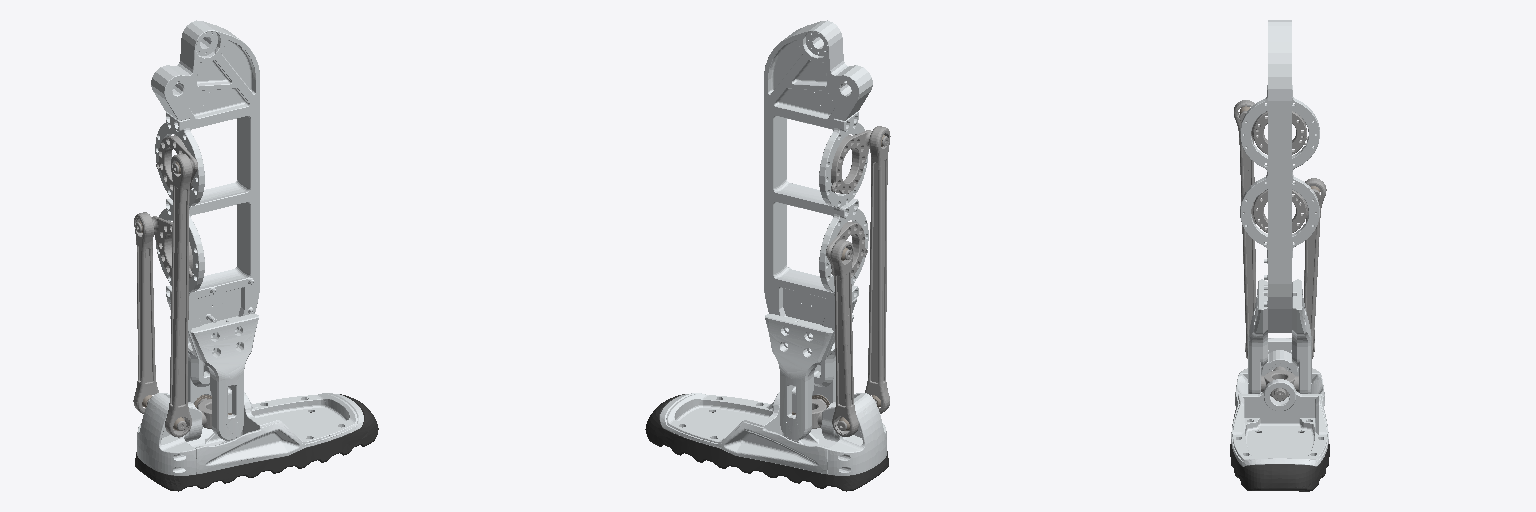
robot.urdf — robot:
<?xml version="1.0" encoding="utf-8"?>
<!--Mentee Robotics LTD-->
<robot name="robot">
  <material name="SOLIDWORKS_Materials|6061-T6_(SS)|164">
    <color rgba="0.8980392157 0.9176470588 0.9294117647 1" />
  </material>
  <material name="Custom_Materials|17-4_PH_H900">
    <color rgba="0.6980392157 0.6980392157 0.6980392157 1" />
  </material>
  <material name="SOLIDWORKS_Materials|AISI_304|1">
    <color rgba="0.6470588235 0.6196078431 0.5882352941 1" />
  </material>
  <material name="SOLIDWORKS_Materials|Rubber|79">
    <color rgba="0.2980392157 0.2980392157 0.2980392157 1" />
  </material>
  <link name="base_link">
    <inertial>
      <origin xyz="-0.03668944236 -1.378044267E-05 -0.5665630418" rpy="0 0 0" />
      <mass value="1.880591247" />
      <inertia ixx="0.03915808668" ixy="2.098688803E-07" ixz="0.0008236686558" iyy="0.04041366541" iyz="-2.068388886E-06" izz="0.00231368708" />
    </inertial>
    <visual>
      <origin xyz="0 0 0" rpy="0 0 0" />
      <geometry>
        <mesh filename="../meshes/base_link/component_0_21_21.stl" />
      </geometry>
      <material name="SOLIDWORKS_Materials|6061-T6_(SS)|164" />
    </visual>
    <visual>
      <origin xyz="0 0 0" rpy="0 0 0" />
      <geometry>
        <mesh filename="../meshes/base_link/component_1_21_85.stl" />
      </geometry>
      <material name="SOLIDWORKS_Materials|6061-T6_(SS)|164" />
    </visual>
    <visual>
      <origin xyz="0 0 0" rpy="0 0 0" />
      <geometry>
        <mesh filename="../meshes/base_link/component_2_21_30.stl" />
      </geometry>
      <material name="SOLIDWORKS_Materials|6061-T6_(SS)|164" />
    </visual>
    <visual>
      <origin xyz="0 0 0" rpy="0 0 0" />
      <geometry>
        <mesh filename="../meshes/base_link/component_3_21_31.stl" />
      </geometry>
      <material name="SOLIDWORKS_Materials|6061-T6_(SS)|164" />
    </visual>
  </link>
  <joint name="base_link_to_new_link" type="revolute">
    <origin xyz="-0.08421932783 0 -0.5842061602" rpy="-1.570796327 -0.4088553244 1.570796327" />
    <parent link="base_link" />
    <child link="motor_down" />
    <axis xyz="0 0 1" />
    <limit lower="-3.14" upper="3.14" velocity="1" effort="1" />
  </joint>
  <link name="motor_down">
    <inertial>
      <origin xyz="0.005300563095 4.098854107E-07 0.0003355917088" rpy="0 0 0" />
      <mass value="0.1520232008" />
      <inertia ixx="5.002545652E-05" ixy="-2.222769843E-07" ixz="-3.068970612E-06" iyy="7.9769514E-05" iyz="3.621420167E-11" izz="0.0001268029864" />
    </inertial>
    <visual>
      <origin xyz="0 0 0" rpy="0 0 0" />
      <geometry>
        <mesh filename="../meshes/motor_down/component_0_21_23.stl" />
      </geometry>
      <material name="Custom_Materials|17-4_PH_H900" />
    </visual>
  </link>
  <joint name="motor_down_crank_roll_joint" type="revolute">
    <origin xyz="0.0450000014 0 0.018" rpy="0 0 0.4088553244" />
    <parent link="motor_down" />
    <child link="motor_down_crank_roll" />
    <axis xyz="0 0 1" />
    <limit lower="-3.14" upper="3.14" velocity="1" effort="1" />
  </joint>
  <link name="motor_down_crank_roll">
    <inertial>
      <origin xyz="-1.657142534E-09 -3.005131699E-10 -0.001267503997" rpy="0 0 0" />
      <mass value="0.008673585371" />
      <inertia ixx="4.382666828E-07" ixy="3.97046694E-23" ixz="2.48942567E-21" iyy="4.382666828E-07" iyz="1.849716213E-22" izz="8.154870604E-08" />
    </inertial>
    <visual>
      <origin xyz="0 0 0" rpy="0 0 0" />
      <geometry>
        <mesh filename="../meshes/motor_down_crank_roll/component_0_21_111.stl" />
      </geometry>
      <material name="Custom_Materials|17-4_PH_H900" />
    </visual>
  </link>
  <joint name="motor_down_crank_yaw_joint" type="revolute">
    <origin xyz="0 0 0" rpy="1.570582648 -0.01309308882 1.587115342" />
    <parent link="motor_down_crank_roll" />
    <child link="motor_down_crank_yaw" />
    <axis xyz="0 0 1" />
    <limit lower="-3.14" upper="3.14" velocity="1" effort="1" />
  </joint>
  <link name="motor_down_crank_yaw">
    <inertial>
      <origin xyz="0.1016481768 -0.001374025996 -0.00166224253" rpy="0 0 0" />
      <mass value="0.3312266505" />
      <inertia ixx="1.686073529E-05" ixy="2.019466749E-05" ixz="2.675498706E-05" iyy="0.001624643749" iyz="-3.363803788E-07" izz="0.001624357381" />
    </inertial>
    <visual>
      <origin xyz="0 0 0" rpy="0 0 0" />
      <geometry>
        <mesh filename="../meshes/motor_down_crank_yaw/component_0_21_26_22.stl" />
      </geometry>
      <material name="SOLIDWORKS_Materials|AISI_304|1" />
    </visual>
    <visual>
      <origin xyz="0 0 0" rpy="0 0 0" />
      <geometry>
        <mesh filename="../meshes/motor_down_crank_yaw/component_1_21_25.stl" />
      </geometry>
      <material name="Custom_Materials|17-4_PH_H900" />
    </visual>
  </link>
  <joint name="crank_foot_down_roll_joint" type="revolute">
    <origin xyz="0.2099545995 -0.002781906005 -0.003365584216" rpy="-0.01631621716 -0.0002136608557 1.557703238" />
    <parent link="motor_down_crank_yaw" />
    <child link="crank_foot_down_roll" />
    <axis xyz="0 0 1" />
    <limit lower="-3.14" upper="3.14" velocity="1" effort="1" />
  </joint>
  <link name="crank_foot_down_roll">
    <inertial>
      <origin xyz="-8.949369024E-13 -3.419375894E-12 -0.001267503997" rpy="0 0 0" />
      <mass value="0.008673585371" />
      <inertia ixx="4.382666828E-07" ixy="7.940933881E-23" ixz="-1.229483188E-22" iyy="4.382666828E-07" iyz="5.74961539E-23" izz="8.154870604E-08" />
    </inertial>
    <visual>
      <origin xyz="0 0 0" rpy="0 0 0" />
      <geometry>
        <mesh filename="../meshes/crank_foot_down_roll/component_0_21_119.stl" />
      </geometry>
      <material name="Custom_Materials|17-4_PH_H900" />
    </visual>
  </link>
  <joint name="crank_foot_down_roll_to_new_link" type="revolute">
    <origin xyz="0 0 0" rpy="0 1.570796327 0" />
    <parent link="crank_foot_down_roll" />
    <child link="crank_foot_down_yaw" />
    <axis xyz="0 0 1" />
    <limit lower="-3.14" upper="3.14" velocity="1" effort="1" />
  </joint>
  <link name="crank_foot_down_yaw">
    <inertial>
      <origin xyz="1.852684672E-15 1.842970221E-14 1.409011796E-13" rpy="0 0 0" />
      <mass value="0.01050246763" />
      <inertia ixx="3.699176645E-07" ixy="7.580776033E-12" ixz="-7.274656458E-13" iyy="2.752562188E-07" iyz="-3.308714995E-24" izz="2.752562188E-07" />
    </inertial>
    <visual>
      <origin xyz="0 0 0" rpy="0 0 0" />
      <geometry>
        <mesh filename="../meshes/crank_foot_down_yaw/component_0_21_29_22.stl" />
      </geometry>
      <material name="SOLIDWORKS_Materials|AISI_304|1" />
    </visual>
  </link>
  <joint name="lo2_j" type="fixed">
    <origin xyz="0 0 0" rpy="0 0 0" />
    <parent link="crank_foot_down_yaw" />
    <child link="loc2" />
  </joint>
  <link name="loc2">
    <inertial>
      <origin xyz="0 0 0" rpy="0 0 0" />
      <mass value="0.0001" />
      <inertia ixx="1E-07" ixy="0" ixz="0" iyy="1E-07" iyz="0" izz="1E-07" />
    </inertial>
  </link>
  <joint name="motor_up_joint" type="revolute">
    <origin xyz="-0.08421932783 0 -0.4792061601" rpy="1.570796327 -0.4097507864 -1.570796327" />
    <parent link="base_link" />
    <child link="motor_up" />
    <axis xyz="0 0 1" />
    <limit lower="-3.14" upper="3.14" velocity="1" effort="1" />
  </joint>
  <link name="motor_up">
    <inertial>
      <origin xyz="0.005300563095 4.098854106E-07 0.0003355917087" rpy="0 0 0" />
      <mass value="0.1520232008" />
      <inertia ixx="5.002545652E-05" ixy="-2.222769843E-07" ixz="-3.068970612E-06" iyy="7.9769514E-05" iyz="3.621420167E-11" izz="0.0001268029864" />
    </inertial>
    <visual>
      <origin xyz="0 0 0" rpy="0 0 0" />
      <geometry>
        <mesh filename="../meshes/motor_up/component_0_21_22.stl" />
      </geometry>
      <material name="Custom_Materials|17-4_PH_H900" />
    </visual>
  </link>
  <joint name="motor_up_crank_roll_joint" type="revolute">
    <origin xyz="0.04499999893 0 0.018" rpy="0 0 2.731841867" />
    <parent link="motor_up" />
    <child link="motor_up_crank_roll" />
    <axis xyz="0 0 1" />
    <limit lower="-3.14" upper="3.14" velocity="1" effort="1" />
  </joint>
  <link name="motor_up_crank_roll">
    <inertial>
      <origin xyz="-9.823706293E-10 -4.269430365E-10 -0.001267503997" rpy="0 0 0" />
      <mass value="0.008673585371" />
      <inertia ixx="4.382666828E-07" ixy="-8.271806126E-24" ixz="1.257086221E-21" iyy="4.382666828E-07" iyz="-1.403215922E-22" izz="8.154870604E-08" />
    </inertial>
    <visual>
      <origin xyz="0 0 0" rpy="0 0 0" />
      <geometry>
        <mesh filename="../meshes/motor_up_crank_roll/component_0_21_114.stl" />
      </geometry>
      <material name="Custom_Materials|17-4_PH_H900" />
    </visual>
  </link>
  <joint name="motor_up_crank_yaw_joint" type="revolute">
    <origin xyz="0 0 0" rpy="1.548304533 -0.009186774838 1.540403867" />
    <parent link="motor_up_crank_roll" />
    <child link="motor_up_crank_yaw" />
    <axis xyz="0 0 1" />
    <limit lower="-3.14" upper="3.14" velocity="1" effort="1" />
  </joint>
  <link name="motor_up_crank_yaw">
    <inertial>
      <origin xyz="0.1539589326 -0.001378366345 -0.001378305969" rpy="0 0 0" />
      <mass value="0.4686998401" />
      <inertia ixx="2.162357488E-05" ixy="4.479650942E-05" ixz="4.164943136E-05" iyy="0.004779614227" iyz="-3.903093386E-07" izz="0.004779576795" />
    </inertial>
    <visual>
      <origin xyz="0 0 0" rpy="0 0 0" />
      <geometry>
        <mesh filename="../meshes/motor_up_crank_yaw/component_0_21_28_22.stl" />
      </geometry>
      <material name="SOLIDWORKS_Materials|AISI_304|1" />
    </visual>
    <visual>
      <origin xyz="0 0 0" rpy="0 0 0" />
      <geometry>
        <mesh filename="../meshes/motor_up_crank_yaw/component_1_21_24.stl" />
      </geometry>
      <material name="Custom_Materials|17-4_PH_H900" />
    </visual>
  </link>
  <joint name="crank_foot_up_roll_joint" type="revolute">
    <origin xyz="0.3149739701 -0.002863517987 -0.002863283707" rpy="-3.110993535 -0.02249084406 1.561607228" />
    <parent link="motor_up_crank_yaw" />
    <child link="crank_foot_up_roll" />
    <axis xyz="0 0 1" />
    <limit lower="-3.14" upper="3.14" velocity="1" effort="1" />
  </joint>
  <link name="crank_foot_up_roll">
    <inertial>
      <origin xyz="7.122635814E-13 3.322564446E-12 -0.001267503997" rpy="0 0 0" />
      <mass value="0.008673585371" />
      <inertia ixx="4.382666828E-07" ixy="6.6174449E-23" ixz="-6.632011956E-24" iyy="4.382666828E-07" iyz="-1.514864851E-23" izz="8.154870604E-08" />
    </inertial>
    <visual>
      <origin xyz="0 0 0" rpy="0 0 0" />
      <geometry>
        <mesh filename="../meshes/crank_foot_up_roll/component_0_21_118.stl" />
      </geometry>
      <material name="Custom_Materials|17-4_PH_H900" />
    </visual>
  </link>
  <joint name="crank_foot_up_yaw_joint" type="revolute">
    <origin xyz="0 0 0" rpy="0 1.570796327 0" />
    <parent link="crank_foot_up_roll" />
    <child link="crank_foot_up_yaw" />
    <axis xyz="0 0 1" />
    <limit lower="-3.14" upper="3.14" velocity="1" effort="1" />
  </joint>
  <link name="crank_foot_up_yaw">
    <inertial>
      <origin xyz="-3.698777395E-13 -3.330669074E-15 -1.003502836E-13" rpy="0 0 0" />
      <mass value="0.01050246763" />
      <inertia ixx="3.699176645E-07" ixy="-5.638298664E-12" ixz="-5.119273357E-12" iyy="2.752562188E-07" iyz="2.970281332E-28" izz="2.752562188E-07" />
    </inertial>
    <visual>
      <origin xyz="0 0 0" rpy="0 0 0" />
      <geometry>
        <mesh filename="../meshes/crank_foot_up_yaw/component_0_21_27_22.stl" />
      </geometry>
      <material name="SOLIDWORKS_Materials|AISI_304|1" />
    </visual>
  </link>
  <joint name="loc1_j" type="fixed">
    <origin xyz="0 0 0" rpy="0 0 0" />
    <parent link="crank_foot_up_yaw" />
    <child link="loc1" />
  </joint>
  <link name="loc1">
    <inertial>
      <origin xyz="0 0 0" rpy="0 0 0" />
      <mass value="0.0001" />
      <inertia ixx="1E-07" ixy="0" ixz="0" iyy="1E-07" iyz="0" izz="1E-07" />
    </inertial>
  </link>
  <joint name="pitch_joint" type="revolute">
    <origin xyz="-0.036185817 0 -0.7942061602" rpy="1.570796327 0 -3.141592654" />
    <parent link="base_link" />
    <child link="pitch" />
    <axis xyz="0 0 1" />
    <limit lower="-3.14" upper="3.14" velocity="1" effort="1" />
  </joint>
  <link name="pitch">
    <inertial>
      <origin xyz="1.766504653E-08 -4.607825188E-08 -1.238852626E-08" rpy="0 0 0" />
      <mass value="0.2745167213" />
      <inertia ixx="7.232394384E-05" ixy="-7.128230735E-10" ixz="-4.668244298E-13" iyy="0.0001287507871" iyz="-7.535589364E-12" izz="7.358003005E-05" />
    </inertial>
    <visual>
      <origin xyz="0 0 0" rpy="0 0 0" />
      <geometry>
        <mesh filename="../meshes/pitch/component_0_21_33.stl" />
      </geometry>
      <material name="SOLIDWORKS_Materials|AISI_304|1" />
    </visual>
    <visual>
      <origin xyz="0 0 0" rpy="0 0 0" />
      <geometry>
        <mesh filename="../meshes/pitch/component_1_21_36.stl" />
      </geometry>
      <material name="SOLIDWORKS_Materials|AISI_304|1" />
    </visual>
    <visual>
      <origin xyz="0 0 0" rpy="0 0 0" />
      <geometry>
        <mesh filename="../meshes/pitch/component_2_21_138.stl" />
      </geometry>
      <material name="Custom_Materials|17-4_PH_H900" />
    </visual>
  </link>
  <joint name="roll_joint" type="revolute">
    <origin xyz="0 0 0" rpy="-1.570796327 0 -1.570796327" />
    <parent link="pitch" />
    <child link="roll" />
    <axis xyz="0 0 1" />
    <limit lower="-3.14" upper="3.14" velocity="1" effort="1" />
  </joint>
  <link name="roll">
    <inertial>
      <origin xyz="0.0299376568 3.409427821E-07 -0.01664310291" rpy="0 0 0" />
      <mass value="1.245962664" />
      <inertia ixx="0.008612473377" ixy="1.53576609E-08" ixz="0.0008436956836" iyy="0.007847646115" iyz="2.870605913E-07" izz="0.001711999054" />
    </inertial>
    <visual>
      <origin xyz="0 0 0" rpy="0 0 0" />
      <geometry>
        <mesh filename="../meshes/roll/component_0_21_34.stl" />
      </geometry>
      <material name="SOLIDWORKS_Materials|6061-T6_(SS)|164" />
    </visual>
    <visual>
      <origin xyz="0 0 0" rpy="0 0 0" />
      <geometry>
        <mesh filename="../meshes/roll/component_1_21_32.stl" />
      </geometry>
      <material name="SOLIDWORKS_Materials|6061-T6_(SS)|164" />
    </visual>
    <visual>
      <origin xyz="0 0 0" rpy="0 0 0" />
      <geometry>
        <mesh filename="../meshes/roll/component_2_21_207_23.stl" />
      </geometry>
      <material name="SOLIDWORKS_Materials|Rubber|79" />
    </visual>
  </link>
  <joint name="loc1_joint_" type="fixed">
    <origin xyz="-0.01800000003 0.03449999997 0.06599999992" rpy="0 0 -1.570796327" />
    <parent link="roll" />
    <child link="loc1_" />
  </joint>
  <link name="loc1_">
    <inertial>
      <origin xyz="0 0 0" rpy="0 0 0" />
      <mass value="0.0001" />
      <inertia ixx="1E-07" ixy="0" ixz="0" iyy="1E-07" iyz="0" izz="1E-07" />
    </inertial>
  </link>
  <joint name="loc2_joint_" type="fixed">
    <origin xyz="-0.01800000003 -0.03450000004 0.06599999992" rpy="0 0 1.570796327" />
    <parent link="roll" />
    <child link="loc2_" />
  </joint>
  <link name="loc2_">
    <inertial>
      <origin xyz="0 0 0" rpy="0 0 0" />
      <mass value="0.0001" />
      <inertia ixx="1E-07" ixy="0" ixz="0" iyy="1E-07" iyz="0" izz="1E-07" />
    </inertial>
  </link>
</robot>

--- Facts derived from the render (not from the file) ---
Views: 3 orthographic renders of the robot side by side, from view 1: azimuth 30°, elevation 25°; view 2: azimuth 150°, elevation 25°; view 3: azimuth 270°, elevation 25°.
Model robot with 17 links and 16 joints (12 revolute, 4 fixed), rooted at base_link, posed all joints at 0.
Links seen in each view (by area): view 1: base_link, roll, motor_up_crank_yaw, motor_down_crank_yaw, motor_up, motor_down; view 2: base_link, roll, motor_up_crank_yaw, motor_down_crank_yaw, motor_up, motor_down; view 3: base_link, roll, motor_up_crank_yaw, motor_down_crank_yaw, motor_up, motor_down, pitch.
Link boxes in pixels (left/top/right/bottom): base_link: left=151, top=20, right=259, bottom=440; roll: left=135, top=392, right=378, bottom=491; motor_up_crank_yaw: left=165, top=153, right=192, bottom=437; motor_down_crank_yaw: left=133, top=212, right=158, bottom=413; motor_up: left=156, top=135, right=197, bottom=190; motor_down: left=152, top=216, right=192, bottom=278; base_link: left=764, top=20, right=872, bottom=440; roll: left=645, top=392, right=888, bottom=491; motor_up_crank_yaw: left=865, top=126, right=890, bottom=413; motor_down_crank_yaw: left=831, top=240, right=858, bottom=436; motor_up: left=831, top=130, right=871, bottom=193; motor_down: left=826, top=222, right=867, bottom=277; base_link: left=1240, top=20, right=1319, bottom=393; roll: left=1230, top=338, right=1329, bottom=491; motor_up_crank_yaw: left=1234, top=100, right=1255, bottom=358; motor_down_crank_yaw: left=1304, top=178, right=1326, bottom=358; motor_up: left=1239, top=111, right=1307, bottom=154; motor_down: left=1252, top=189, right=1320, bottom=232; pitch: left=1261, top=366, right=1298, bottom=401.
Bounding box of the posed robot: 0.2846 × 0.122 × 0.5377 m (x, y, z).
22 mesh visuals loaded from 22 distinct referenced files (22 binary STL).
